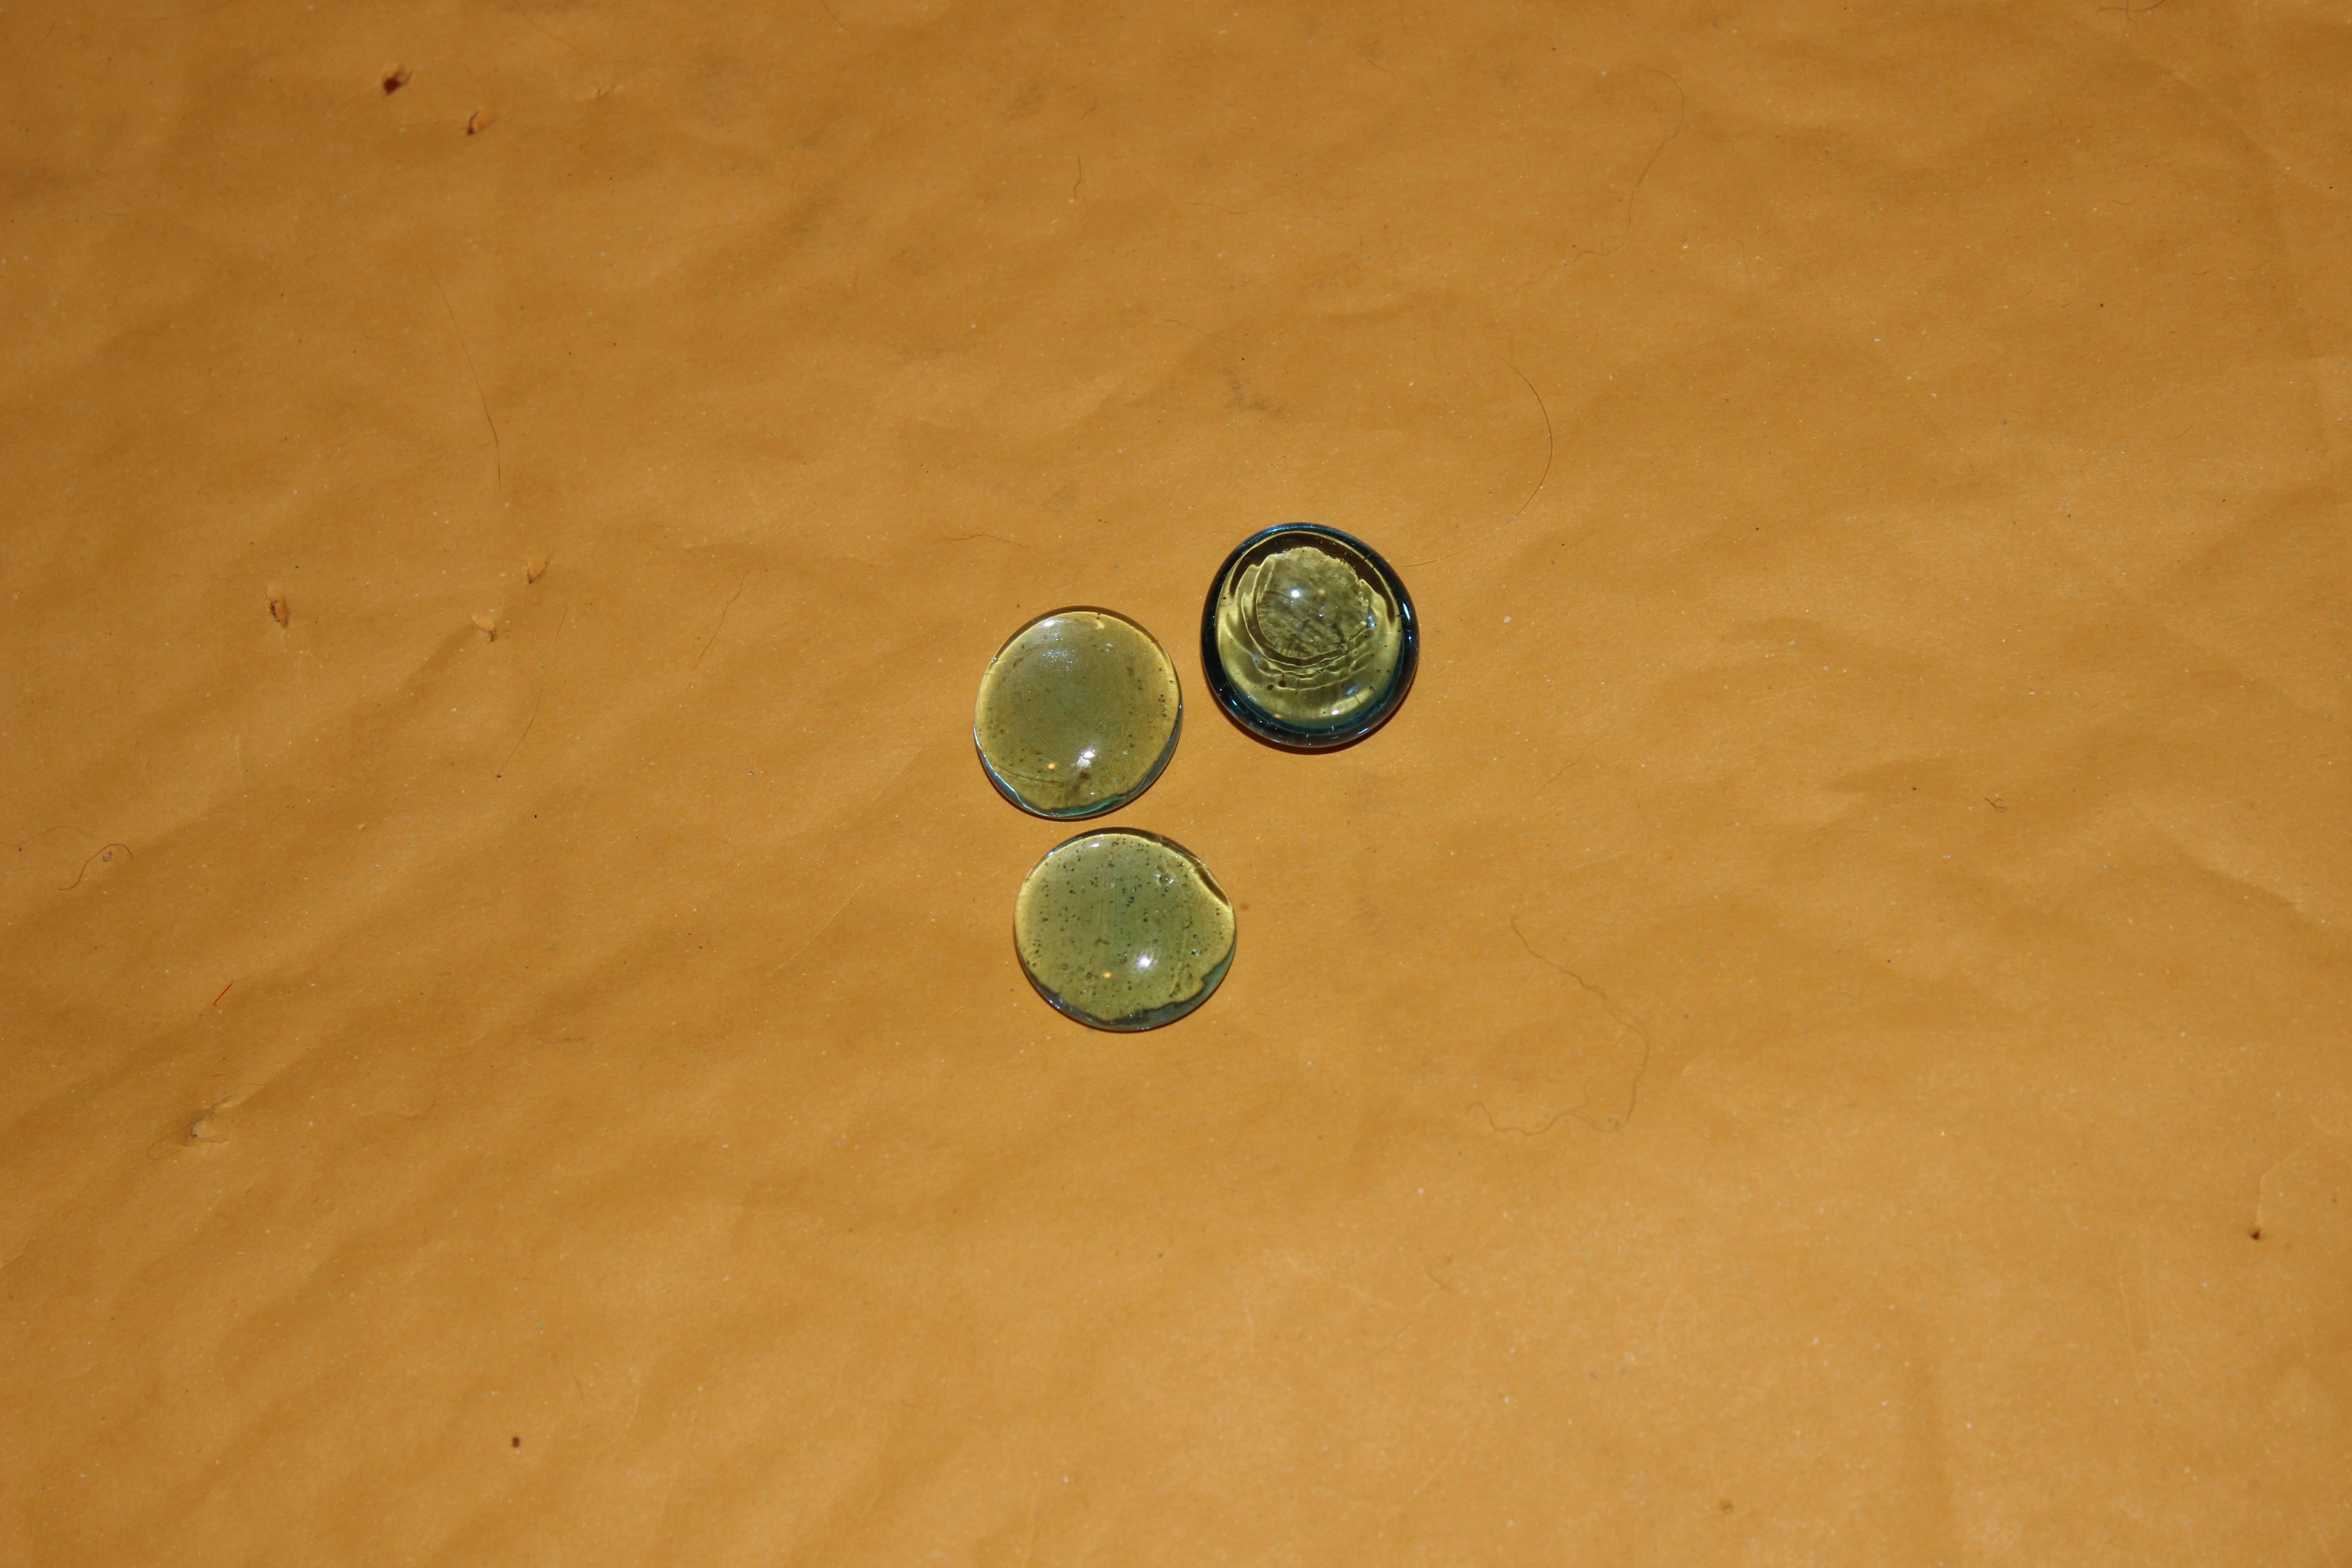glassBead: (1174, 506, 1444, 770), (935, 590, 1199, 829), (999, 824, 1262, 1043)
